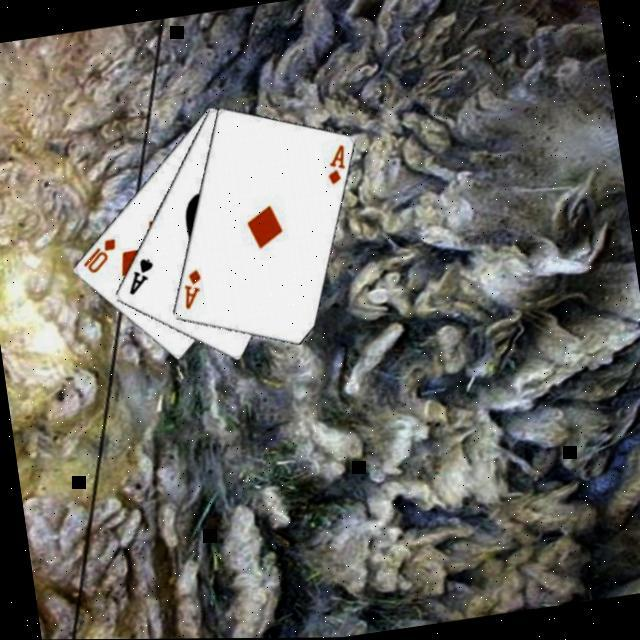10D: (76, 233, 122, 275)
AD: (176, 264, 206, 311), (320, 140, 350, 187)
AS: (120, 253, 158, 297)
